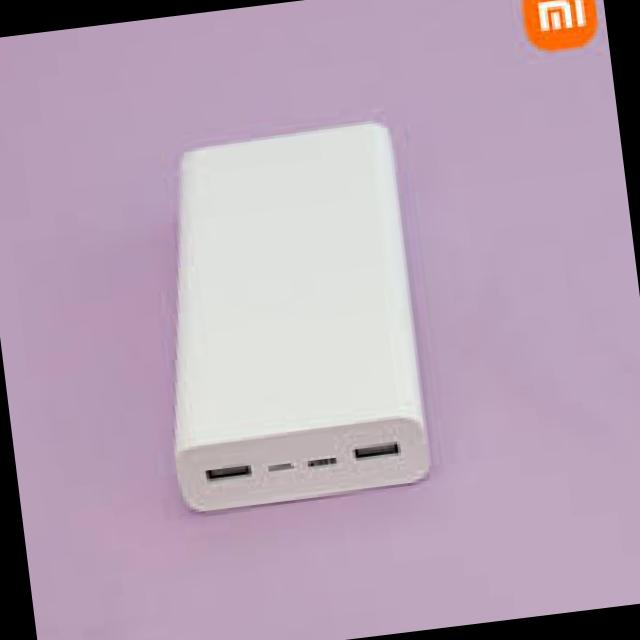power_bank: (142, 113, 444, 518)
